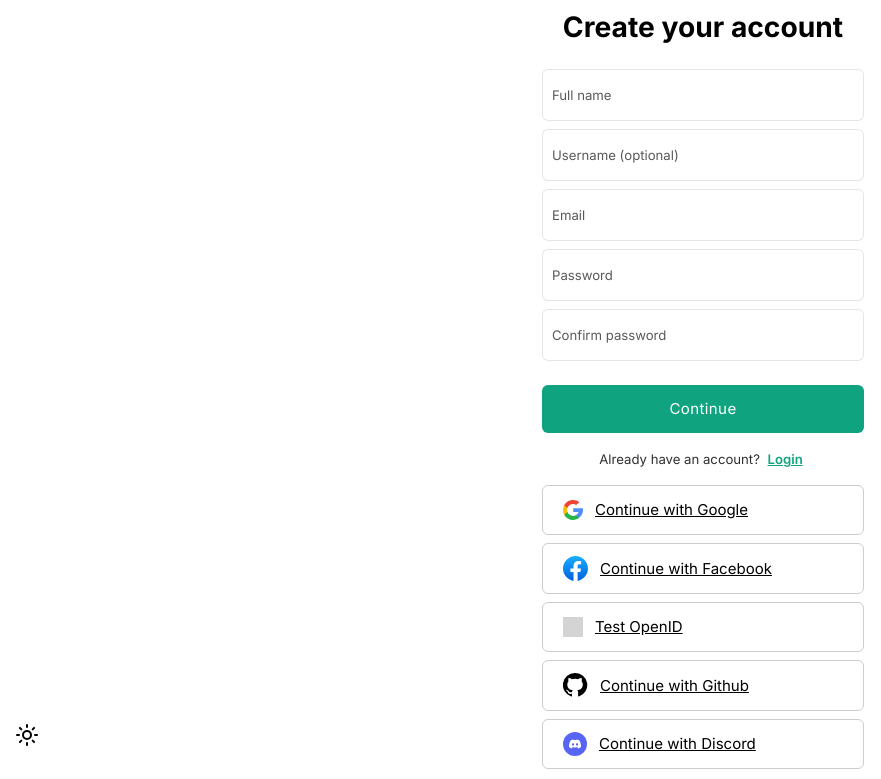
Test case: shows error message when registration fails
Type "John Doe" into the field labelled "Full name" at (703,95), box [542,69,864,121]
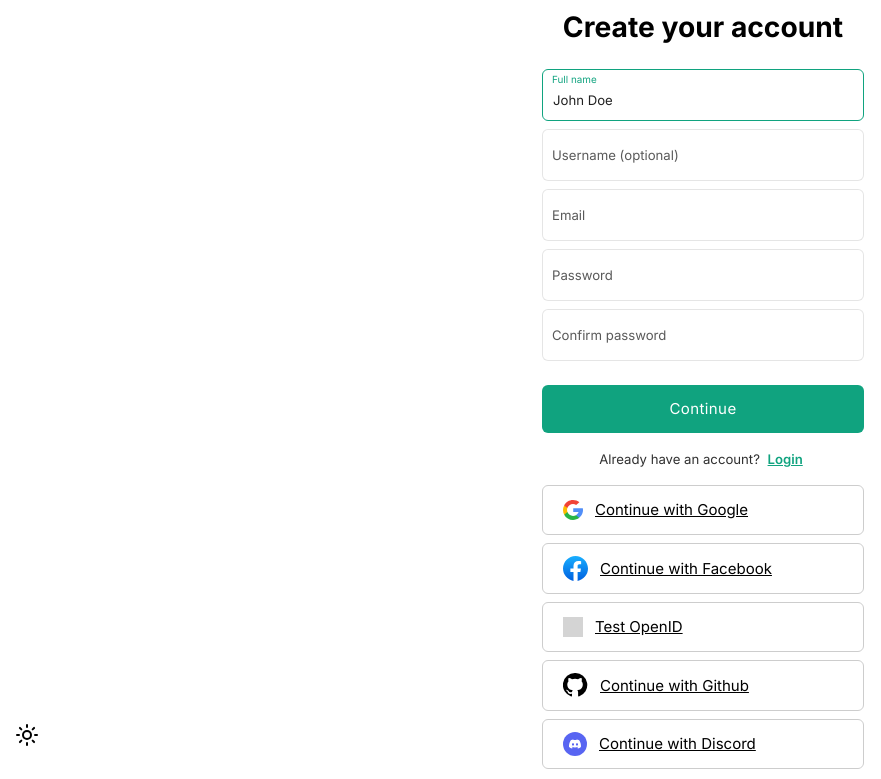
Type "johndoe" into the field labelled "Username (optional)" at (703,155), box [542,129,864,181]
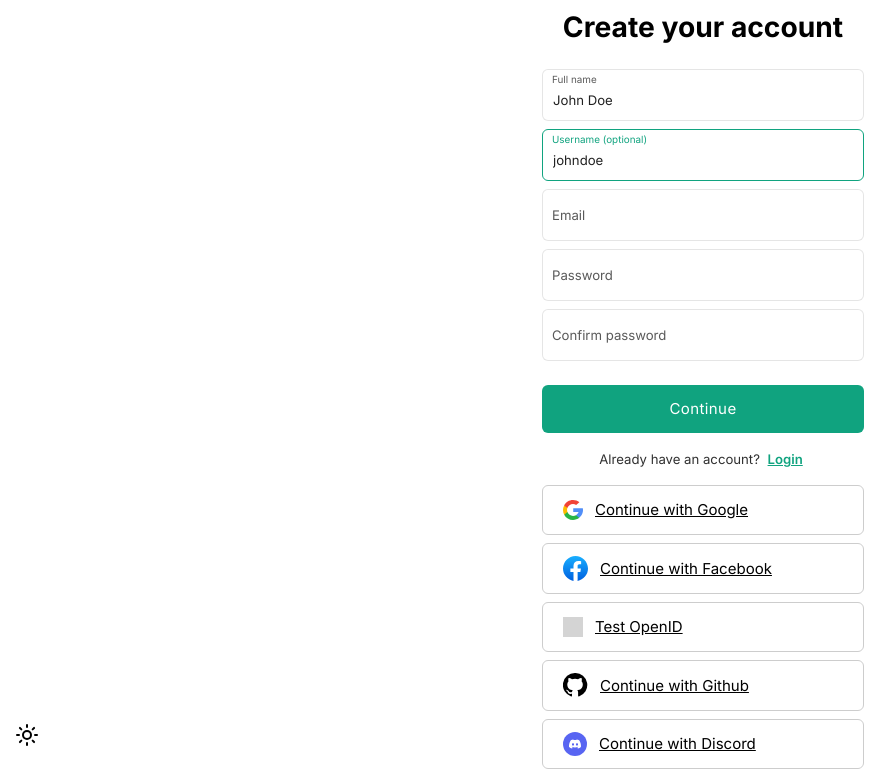
Type "test@test.com" into the field labelled "Email" at (703,215), box [542,189,864,241]
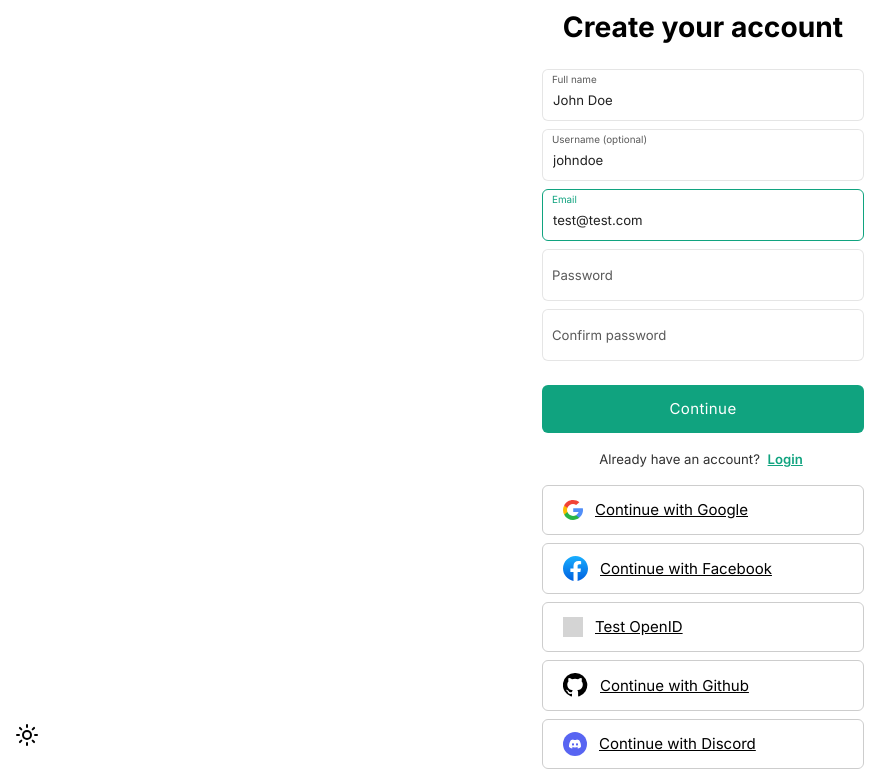
Type "password" into the password field with test id "password" at (703,275), box [542,249,864,301]
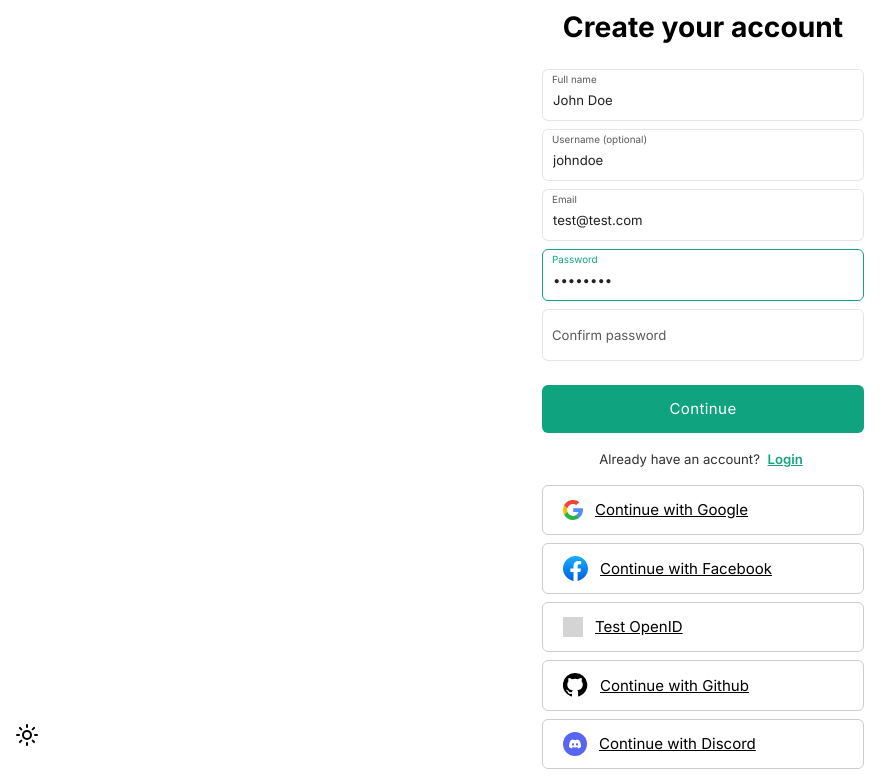
Type "password" into the password field with test id "confirm_password" at (703,335), box [542,309,864,361]
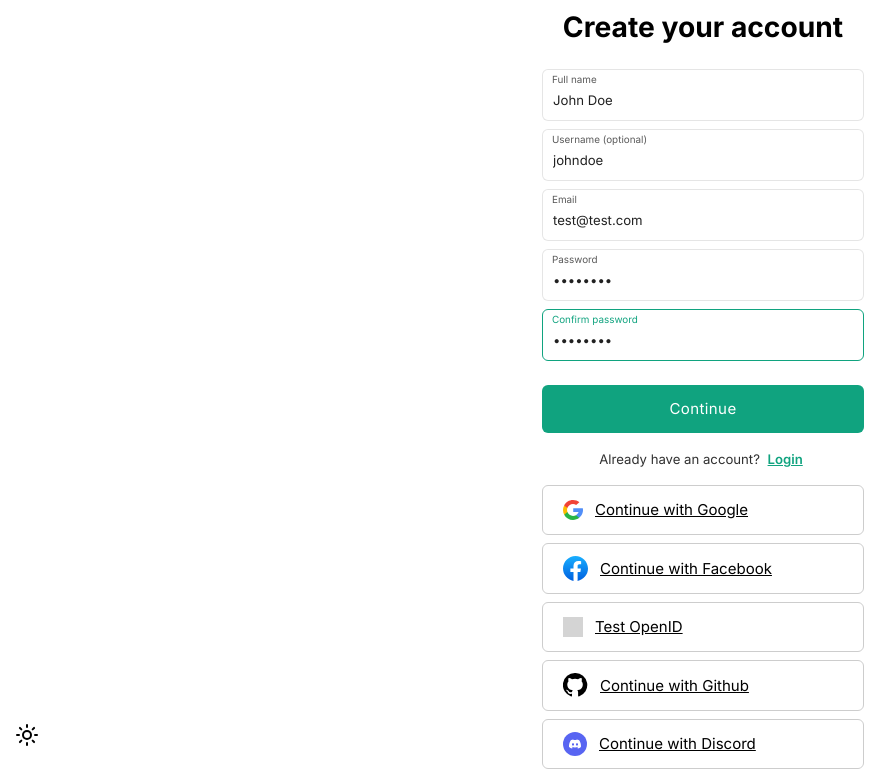
Click the button with aria-label "Submit registration" at (703,409), box [542,385,864,433]
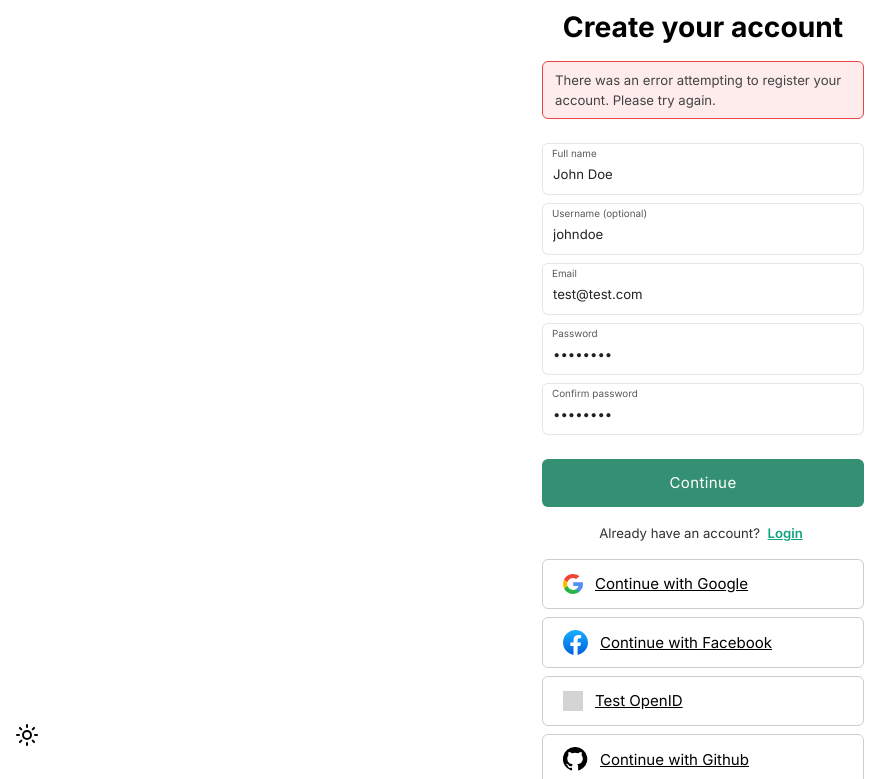
Expected: the message "There was an error attempting to register your account. Please try again." is shown, [542,61,864,119]
